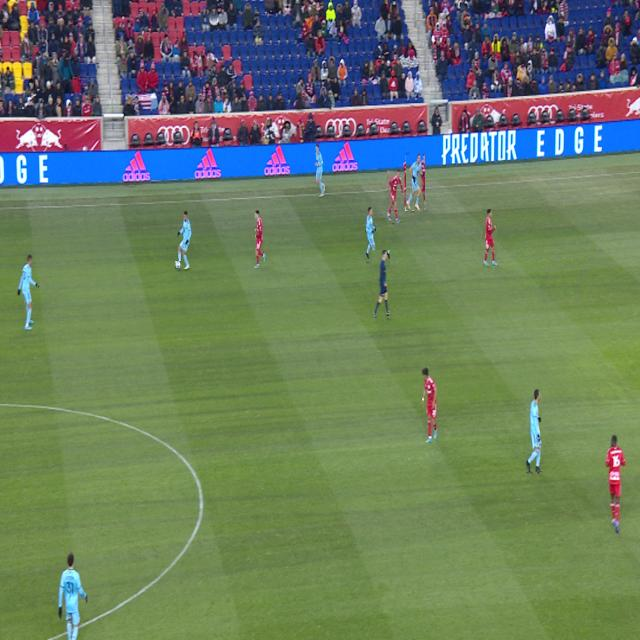football: (175, 262, 181, 269)
player: (58, 552, 88, 640), (606, 435, 626, 533), (18, 254, 39, 330), (526, 390, 542, 472), (422, 368, 438, 443), (407, 155, 425, 210), (176, 211, 192, 269), (387, 170, 404, 223), (484, 209, 497, 266), (254, 210, 266, 268), (401, 153, 412, 211), (366, 208, 376, 262), (315, 144, 325, 197)
referee: (373, 251, 390, 318)
